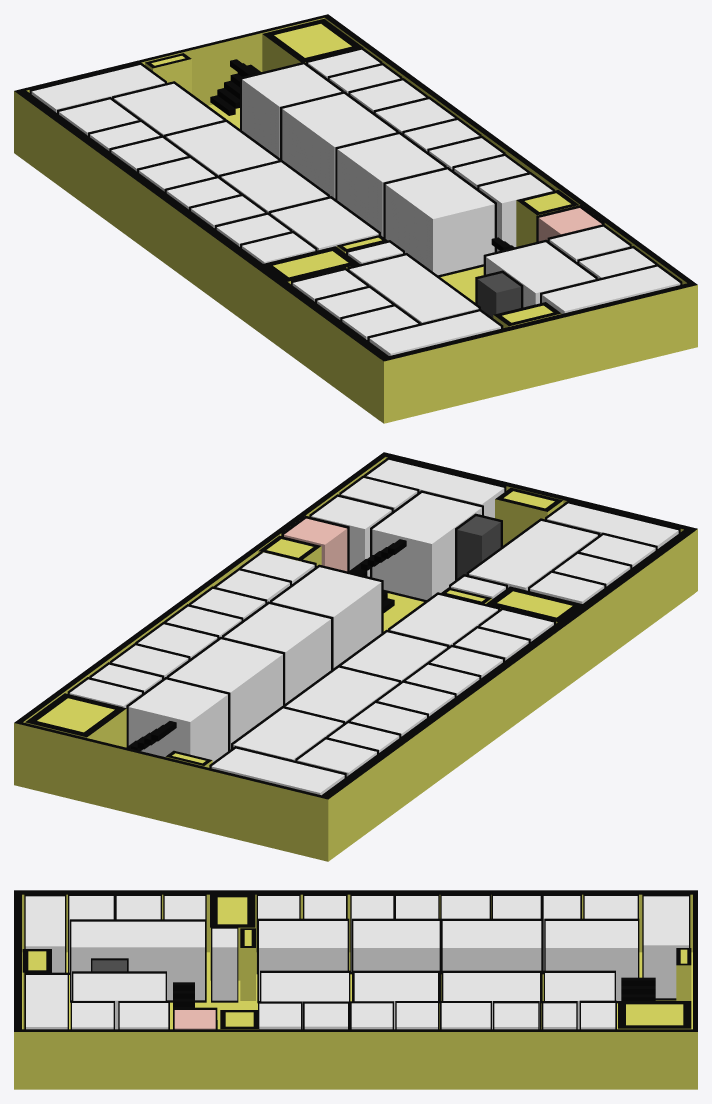
3 views of the same model, one above another, from view 1: azimuth 30°, elevation 25°; view 2: azimuth 150°, elevation 25°; view 3: azimuth 270°, elevation 25° (orthographic). The views are drawn at different scales.
Parts seen in each view (by area): view 1: object, room_4_5_6, room_4_5_35, room_4_5_7, room_4_5_8, room_4_5_2, room_4_5_5, room_4_5_33, room_4_5_3, room_4_5_34, room_4_5_18, room_4_5_4 (+28 smaller); view 2: object, room_4_5_5, room_4_5_8, room_4_5_35, room_4_5_6, room_4_5_7, room_4_5_2, room_4_5_33, room_4_5_34, room_4_5_17, room_4_5_3, room_4_5_18 (+29 smaller); view 3: object, room_4_5_2, room_4_5_33, room_4_5_34, room_4_5_3, room_4_5_4, room_4_5_17, room_4_5_35, room_4_5_5, room_4_5_6, room_4_5_7, room_4_5_32 (+42 smaller).
Part boxes in pixels (x1,y1,x2,y2): object: [14, 14, 697, 423]; room_4_5_6: [385, 169, 494, 275]; room_4_5_35: [282, 94, 395, 198]; room_4_5_7: [337, 134, 444, 236]; room_4_5_8: [242, 64, 340, 157]; room_4_5_2: [349, 255, 478, 323]; room_4_5_5: [486, 242, 595, 307]; room_4_5_33: [166, 122, 277, 175]; room_4_5_3: [271, 198, 378, 250]; room_4_5_34: [114, 83, 222, 135]; room_4_5_18: [542, 266, 680, 313]; room_4_5_4: [221, 162, 327, 212]; object: [14, 452, 697, 861]; room_4_5_5: [372, 493, 481, 599]; room_4_5_8: [128, 679, 227, 762]; room_4_5_35: [169, 639, 282, 749]; room_4_5_6: [272, 567, 381, 668]; room_4_5_7: [224, 604, 330, 703]; room_4_5_2: [469, 521, 597, 590]; room_4_5_33: [286, 667, 398, 722]; room_4_5_34: [233, 708, 342, 760]; room_4_5_17: [211, 748, 344, 795]; room_4_5_3: [390, 595, 497, 645]; room_4_5_18: [366, 460, 504, 517]; object: [14, 890, 697, 1089]; room_4_5_2: [71, 921, 204, 1000]; room_4_5_33: [442, 921, 541, 970]; room_4_5_34: [545, 921, 637, 1000]; room_4_5_3: [259, 921, 347, 1000]; room_4_5_4: [353, 921, 439, 970]; room_4_5_17: [643, 896, 688, 998]; room_4_5_35: [443, 973, 539, 1029]; room_4_5_5: [73, 973, 165, 1029]; room_4_5_6: [261, 973, 348, 1028]; room_4_5_7: [354, 973, 437, 1029]; room_4_5_32: [25, 896, 64, 972].
Size of the model in its own units: 0.9668 by 0.1898 by 1.97.
